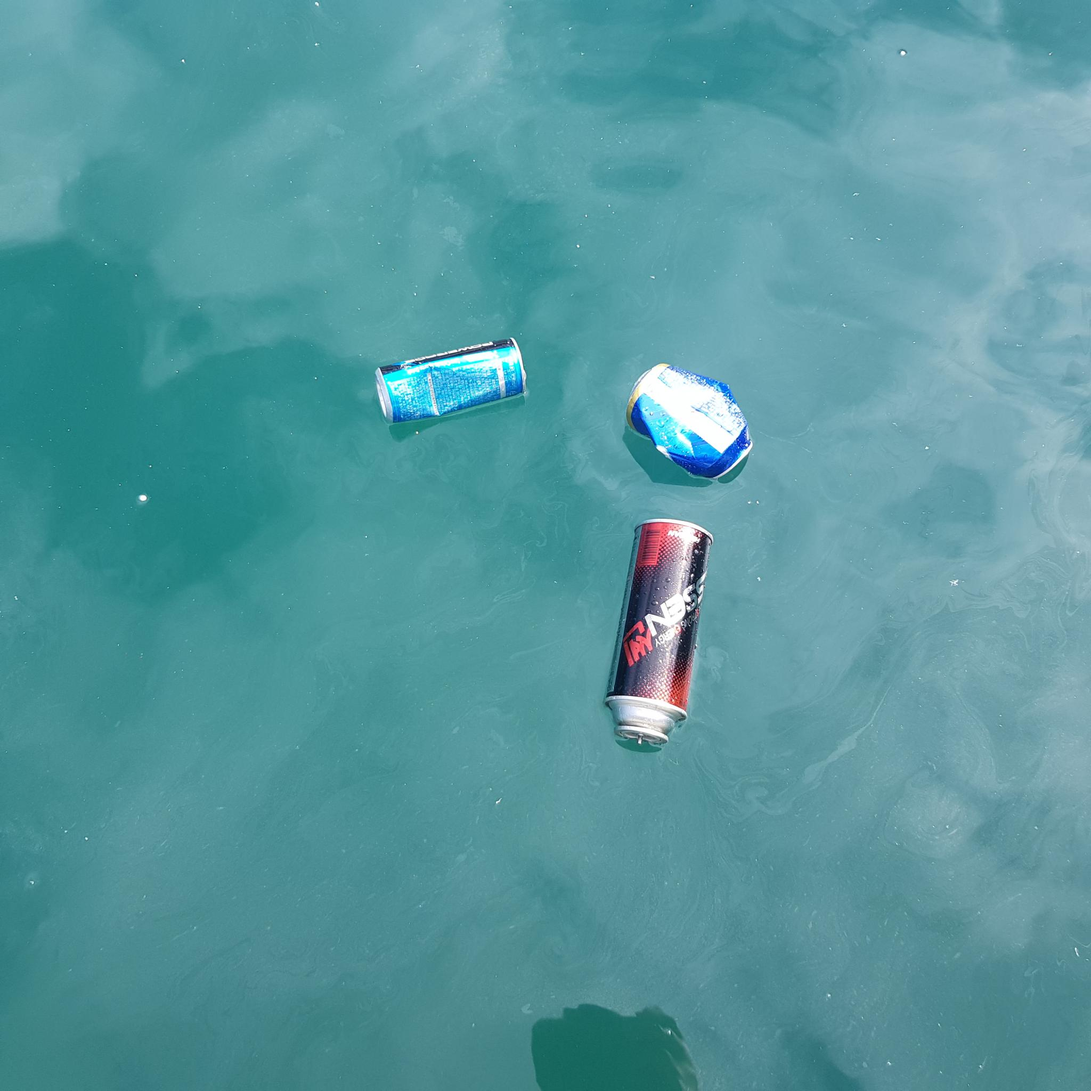sampah_terapung: (604, 519, 714, 746), (626, 363, 754, 480), (375, 337, 527, 425)
